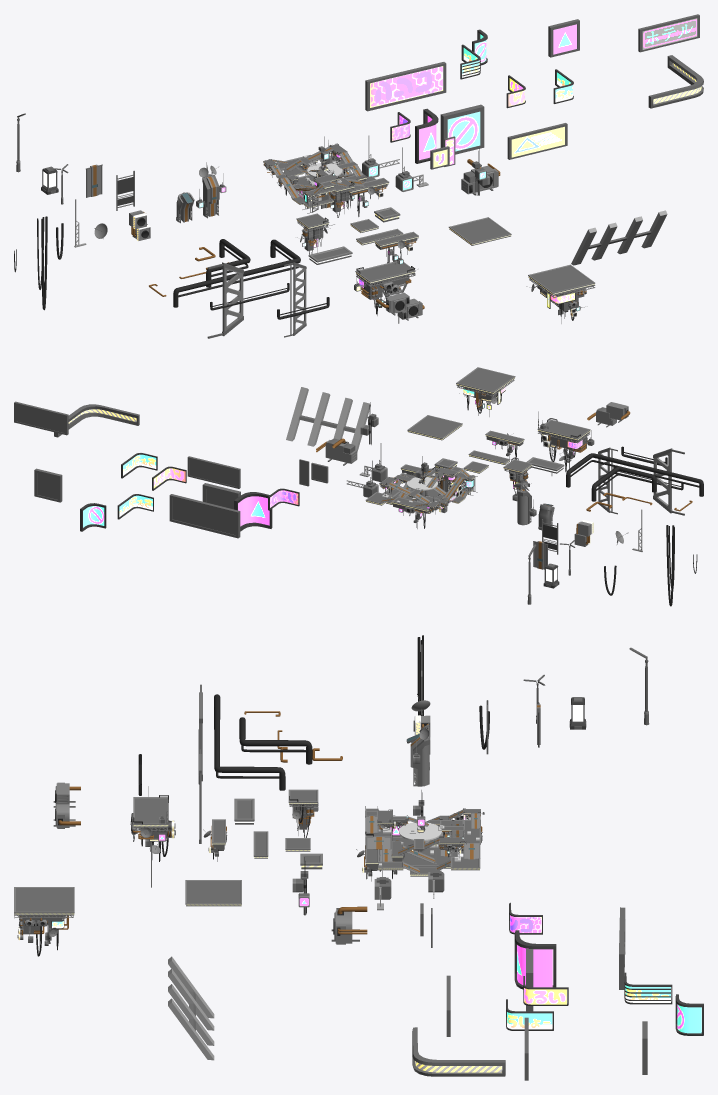
File: level_whitebox.glb
3 renders of one model, top to bottom at view 1: azimuth 30°, elevation 25°; view 2: azimuth 150°, elevation 25°; view 3: azimuth 270°, elevation 25°, orthographic. The views are drawn at different scales.
Parts seen in each view (by area): view 1: Sign_3, Platform_4x4, Platform_4x2, Sign_Small_1, Support, Sign_2, Sign_1, Rail_Corner_2, Sign_Corner_Hazard, Support_Short, Platform_4x4_Empty, Sign_Small_2 (+16 smaller); view 2: Sign_3, Support, Platform_4x2, Platform_4x4, Sign_2, Sign_Corner_Small1, Sign_1, Rail_Corner_2, Sign_Corner_Hazard, Platform_4x4_Empty, Sign_Small_2, Support_Short (+19 smaller); view 3: Platform_4x4, Support, Platform_4x2, Sign_Corner_Hazard, Sign_Corner_Small1, Platform_4x4_Empty, Rail_Corner_2, Sign_Corner_3_Fenced, Rail_Corner, Platform_2x2, Computer_Large, Sign_Corner_Small2 (+6 smaller).
Part boxes in pixels (<box>): Sign_3: <box>365,62,446,111</box>; Platform_4x4: <box>526,264,595,323</box>; Platform_4x2: <box>354,240,417,323</box>; Sign_Small_1: <box>440,104,484,154</box>; Support: <box>571,210,667,265</box>; Sign_2: <box>638,14,699,52</box>; Sign_1: <box>507,123,567,159</box>; Rail_Corner_2: <box>173,239,300,307</box>; Sign_Corner_Hazard: <box>648,55,703,108</box>; Support_Short: <box>207,262,243,338</box>; Platform_4x4_Empty: <box>448,217,511,245</box>; Sign_Small_2: <box>548,19,579,57</box>; Sign_3: <box>169,494,240,538</box>; Support: <box>286,387,370,451</box>; Platform_4x2: <box>537,411,594,475</box>; Platform_4x4: <box>456,367,515,416</box>; Sign_2: <box>14,401,68,435</box>; Sign_Corner_Small1: <box>234,492,272,531</box>; Sign_1: <box>187,456,240,488</box>; Rail_Corner_2: <box>566,453,703,496</box>; Sign_Corner_Hazard: <box>54,404,139,437</box>; Platform_4x4_Empty: <box>407,415,462,440</box>; Sign_Small_2: <box>34,468,62,502</box>; Support_Short: <box>653,448,684,515</box>; Platform_4x4: <box>14,887,74,956</box>; Support: <box>168,956,214,1060</box>; Platform_4x2: <box>130,786,175,887</box>; Sign_Corner_Hazard: <box>412,1027,505,1076</box>; Sign_Corner_Small1: <box>514,930,556,989</box>; Platform_4x4_Empty: <box>185,880,241,906</box>; Rail_Corner_2: <box>214,694,285,790</box>; Sign_Corner_3_Fenced: <box>624,972,672,1004</box>; Rail_Corner: <box>239,717,312,764</box>; Platform_2x2: <box>288,789,318,837</box>; Computer_Large: <box>410,721,429,786</box>; Sign_Corner_Small2: <box>675,994,703,1035</box>.
Size of the model in its own units: 717 by 110 by 482.
